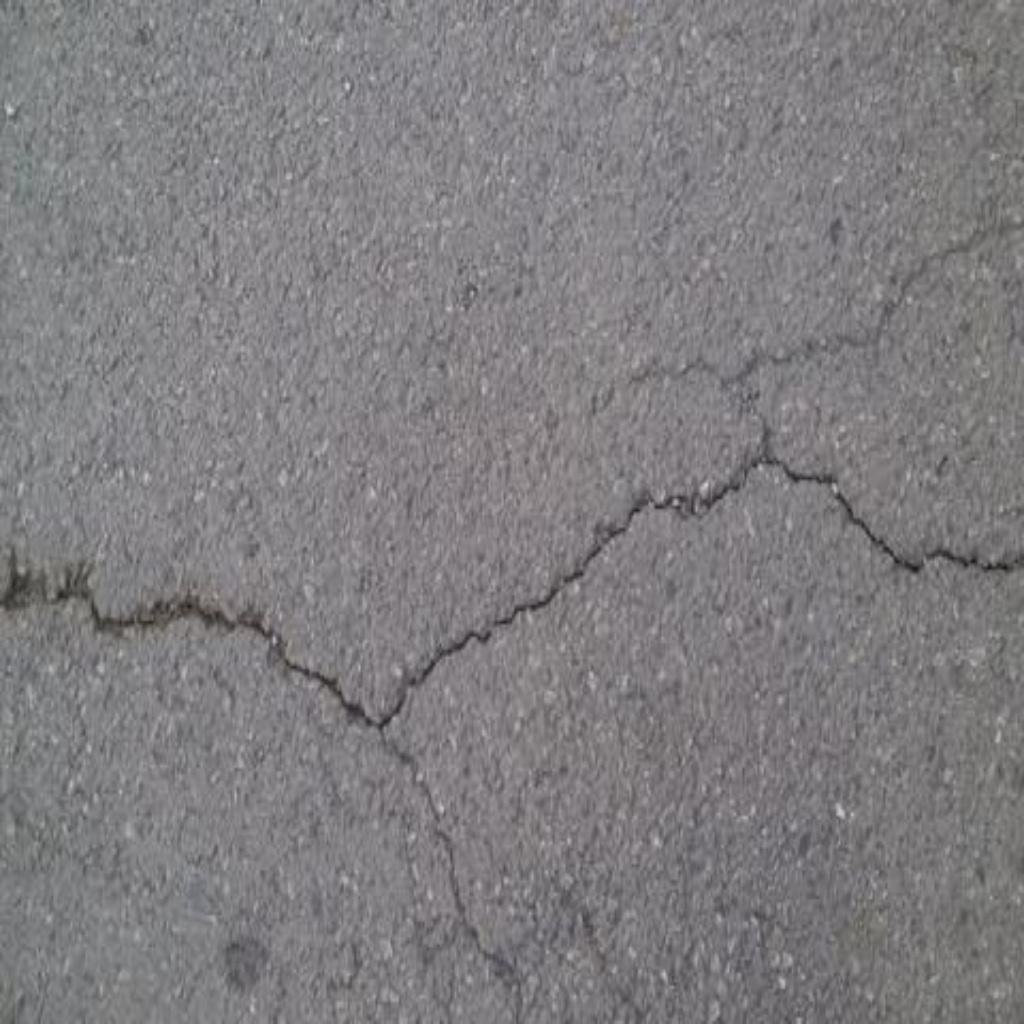Crack: (1, 458, 1024, 730), (627, 224, 1024, 458), (374, 730, 524, 1024)
